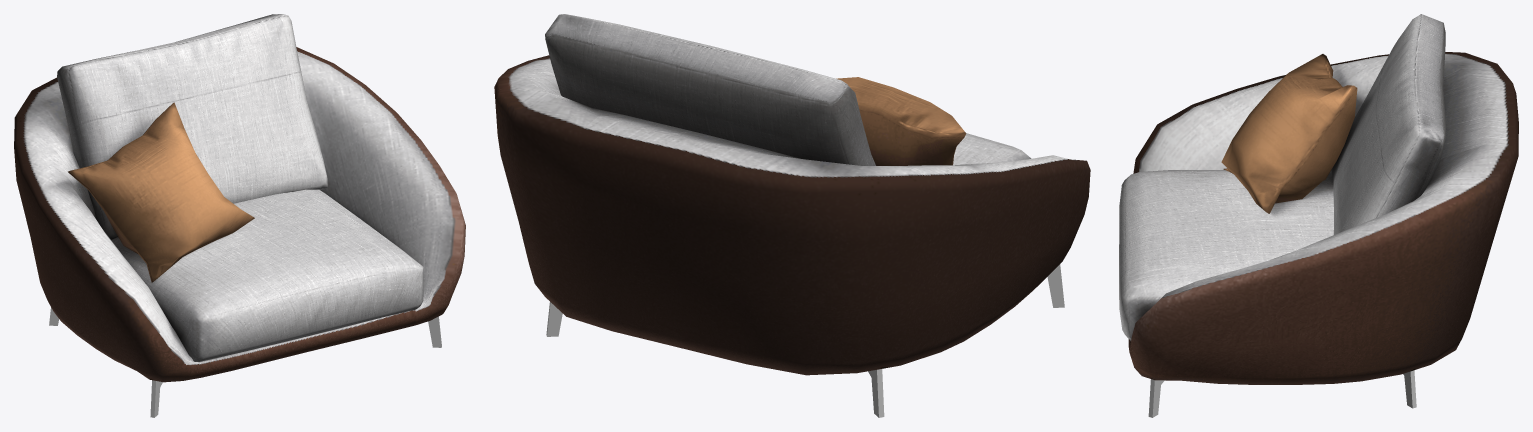
Rendered from One_Seater_Sofa_05.fbx.
3 views of the same model, side by side, from view 1: azimuth 30°, elevation 25°; view 2: azimuth 150°, elevation 25°; view 3: azimuth 270°, elevation 25° (orthographic). The views are drawn at different scales.
Visible parts, largest first — view 1: Leg.011; view 2: Leg.011; view 3: Leg.011.
Boxes of the visible parts, <box> form: Leg.011: <box>14,14,465,417</box>; Leg.011: <box>494,14,1090,417</box>; Leg.011: <box>1119,14,1518,417</box>.
Size of the model in its own units: 124 by 81.71 by 108.
2 materials, 1 textured.
